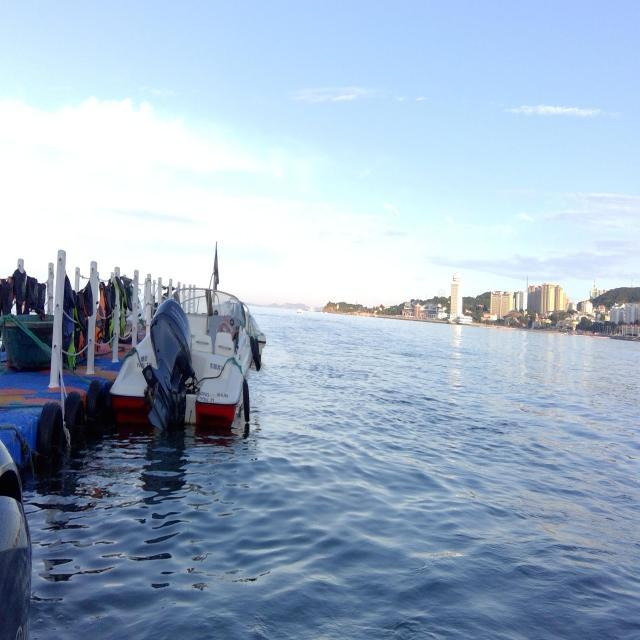CIV_Ship: (108, 239, 275, 437)
